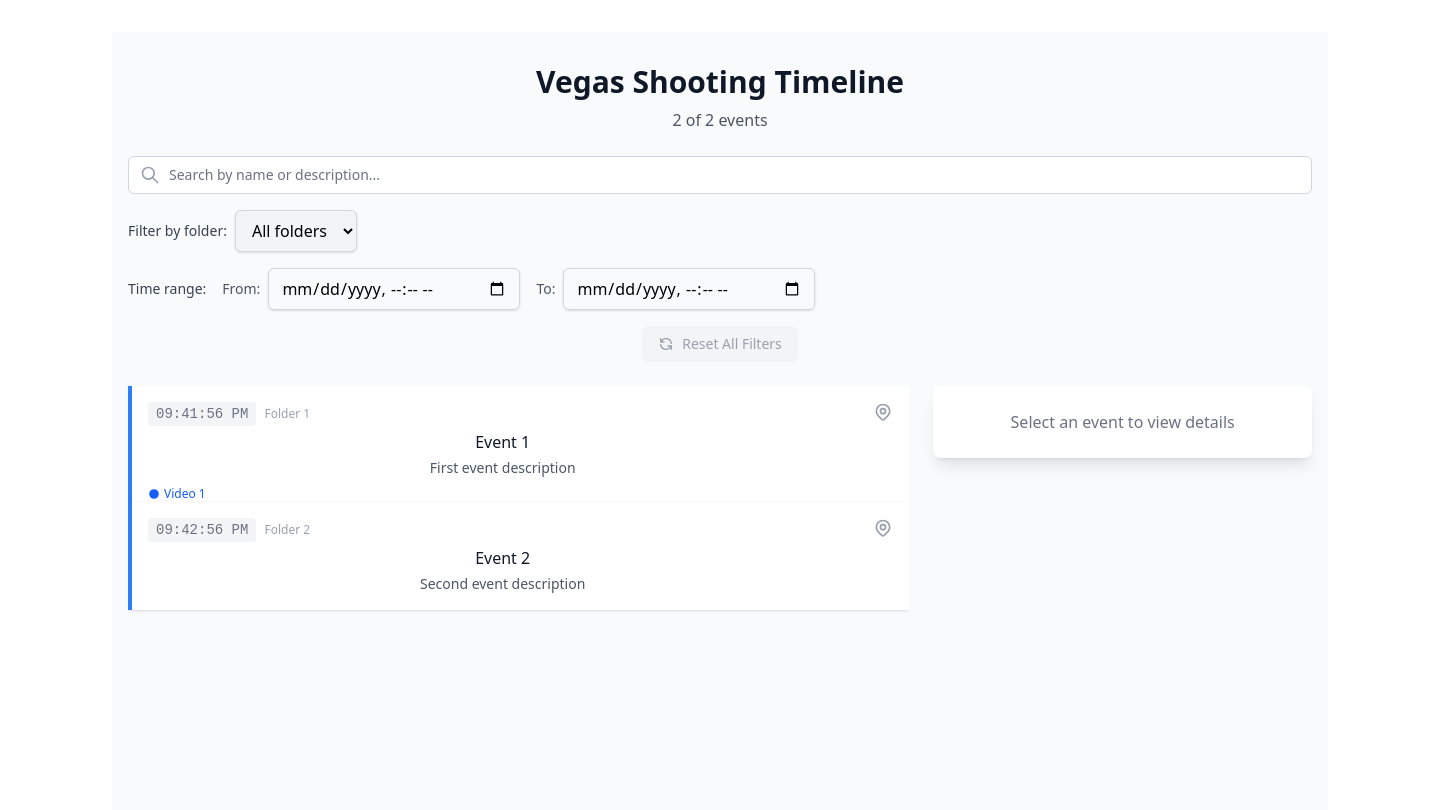
Test: Timeline - Selection and Detail Fetch Integration › shows error state with retry button when detail fetch fails
// Click on first event
Click the heading "Event 1".
click(503, 442)  # box [475,431,530,453]
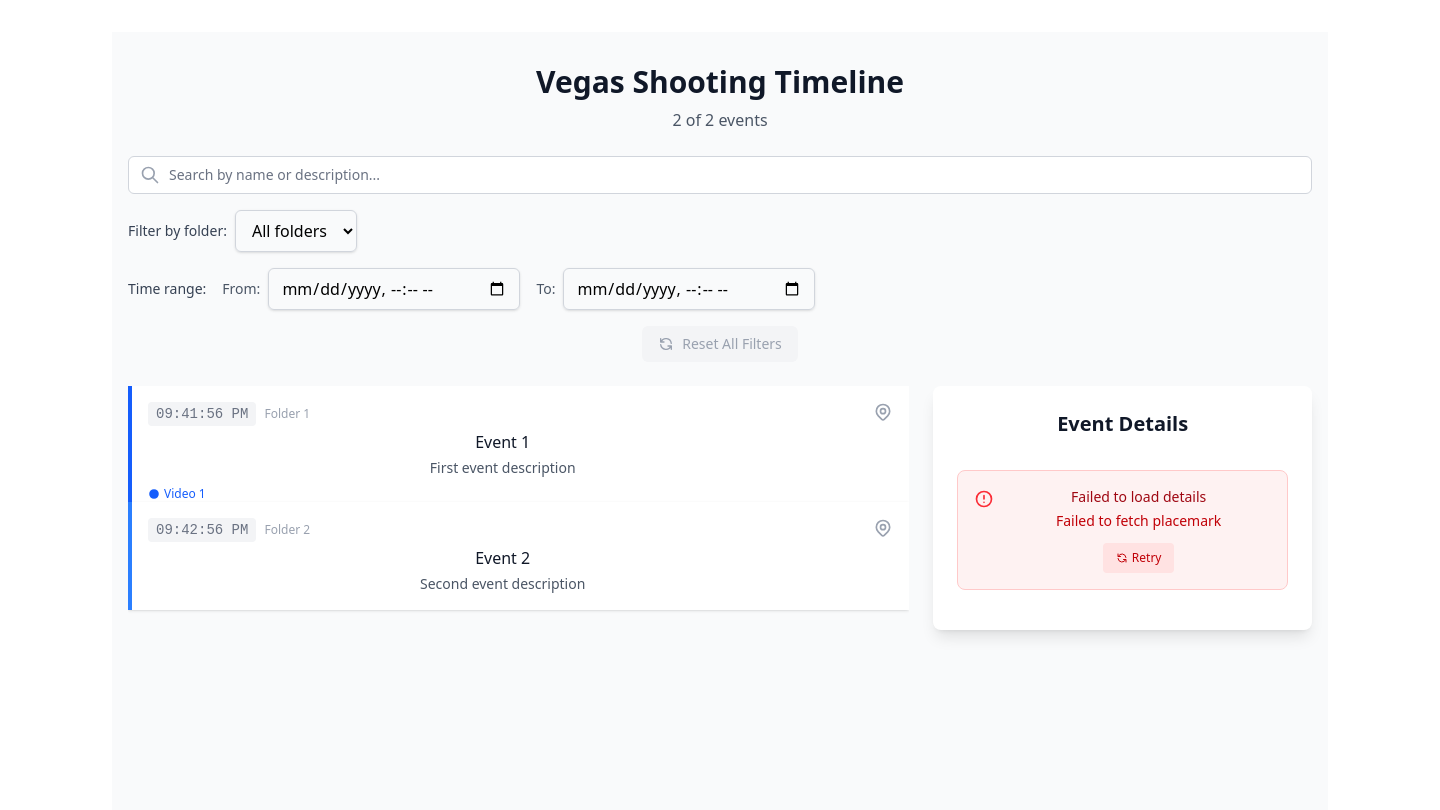
Expected: the heading "Failed to load details" is shown, [1071,487,1206,506]
Expected: the text "Failed to fetch placemark" is shown, [1056,511,1221,530]
// Click retry button
Click the button "Retry".
click(1139, 558)  # box [1103,543,1174,573]
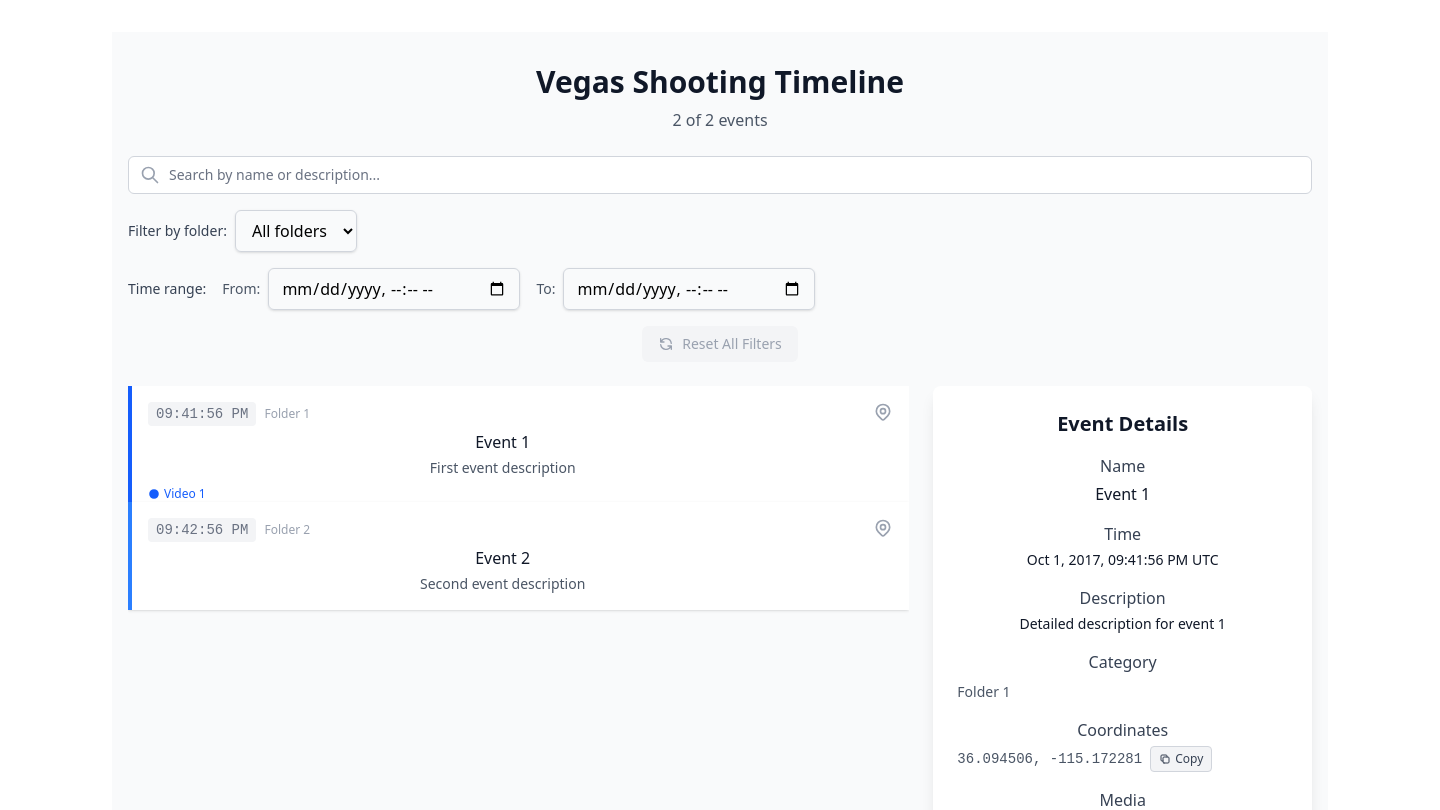
Expected: the text "Detailed description for event 1" is shown, [1019,614,1226,633]
